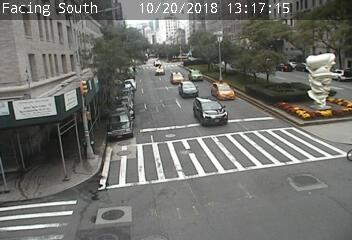car: (194, 97, 228, 125), (211, 82, 235, 100), (178, 81, 197, 98), (188, 69, 203, 81), (170, 72, 184, 84), (155, 66, 165, 75), (153, 60, 161, 67)
